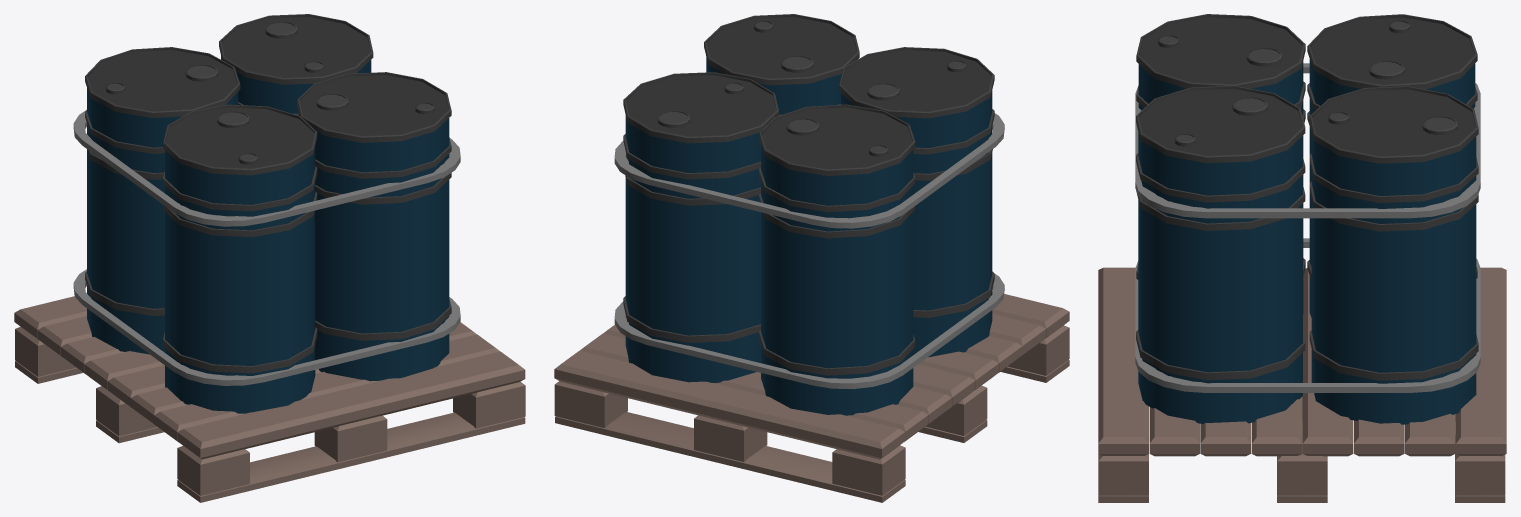
The model's file is props_41.glb.
3 views of the same model, side by side, from view 1: azimuth 30°, elevation 25°; view 2: azimuth 150°, elevation 25°; view 3: azimuth 270°, elevation 25° (orthographic). The views are drawn at different scales.
Parts seen in each view (by area): view 1: props_41; view 2: props_41; view 3: props_41.
Part boxes in pixels (x1=…): props_41: x1=14, y1=14, x2=525, y2=502; props_41: x1=554, y1=14, x2=1069, y2=502; props_41: x1=1098, y1=14, x2=1506, y2=502.
Bounding box in the file's own units: 2 × 1.79 × 1.99.
1 material, 1 textured.
